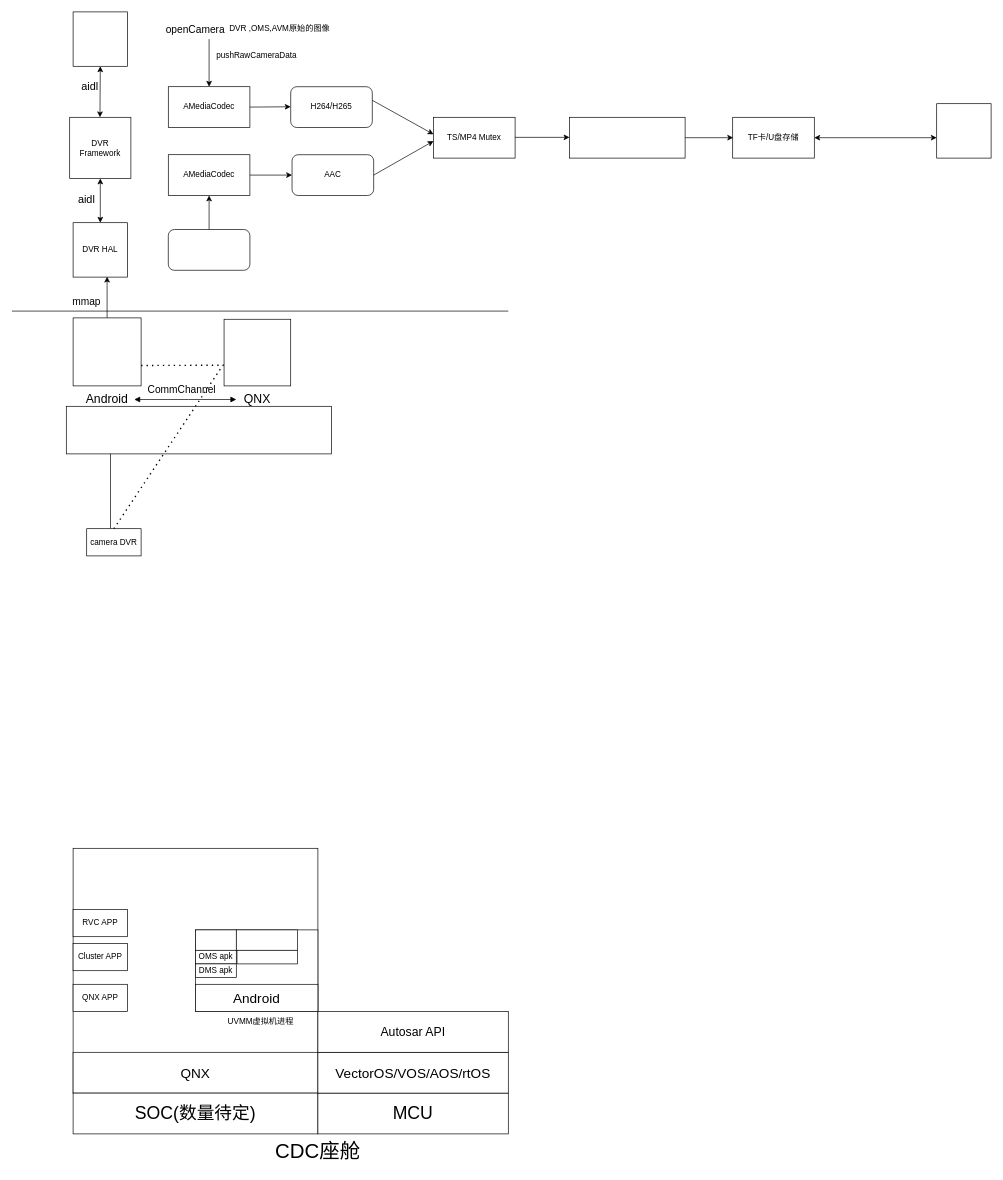
The diagram is 1003 pixels wide and 1180 high, and some of its shapes have lost their labels. The centre of each missing label's shape, as x and y in pixels:
360 AVM apk: [267,939]
ADS apk: [267,957]
Cluster 9527 Platform 10003 AIS server: [257,352]
DVR apk: [215,939]
DVR APP: [100,38]
TrackHAL 10012 V4L2: [106,351]
VolD: [963,130]
座舱CDC: [199,430]
文件名称G_时间_B.mp4/ts: [627,137]
麦克风语音PCM: [209,249]
